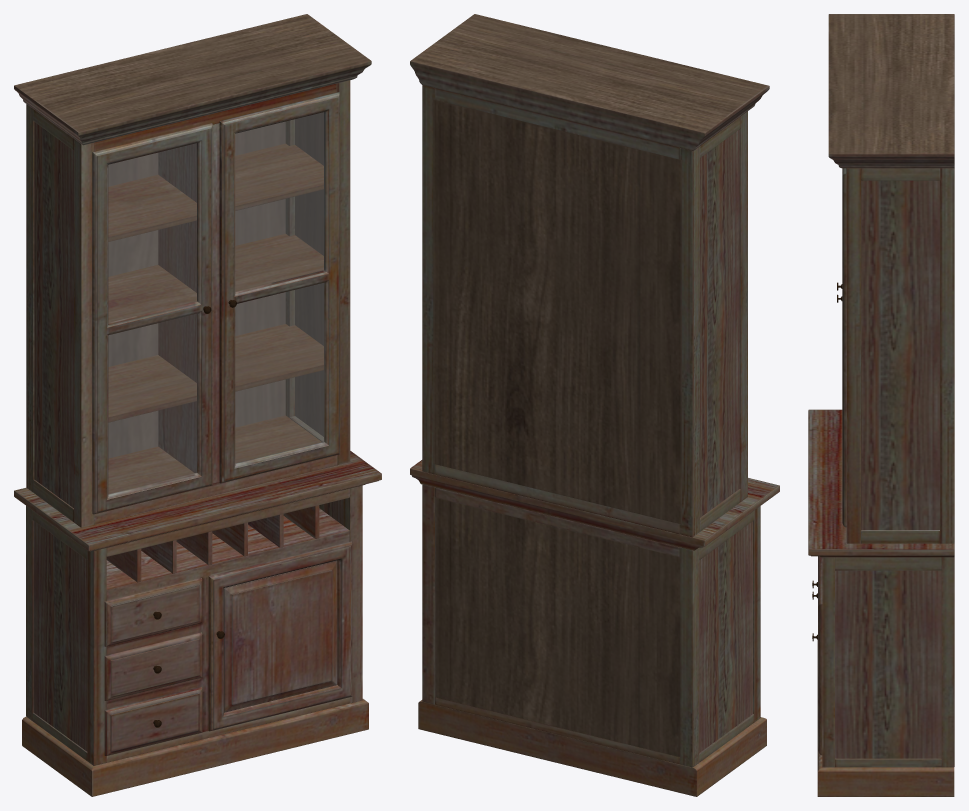
The model's file is wooden_almirah.glb.
3 renders of one model, left to right at view 1: azimuth 30°, elevation 25°; view 2: azimuth 150°, elevation 25°; view 3: azimuth 270°, elevation 25°, orthographic. The views are drawn at different scales.
Parts seen in each view (by area): view 1: Object_4, Object_6; view 2: Object_4; view 3: Object_4.
Part boxes in pixels (x1=…): Object_4: x1=14, y1=14, x2=381, y2=796; Object_6: x1=108, y1=112, x2=324, y2=494; Object_4: x1=410, y1=14, x2=779, y2=796; Object_4: x1=808, y1=14, x2=954, y2=796.
Bounding box in the file's own units: 1.02 × 2.2 × 0.4501.
Materials: 3 (2 with a texture image).
